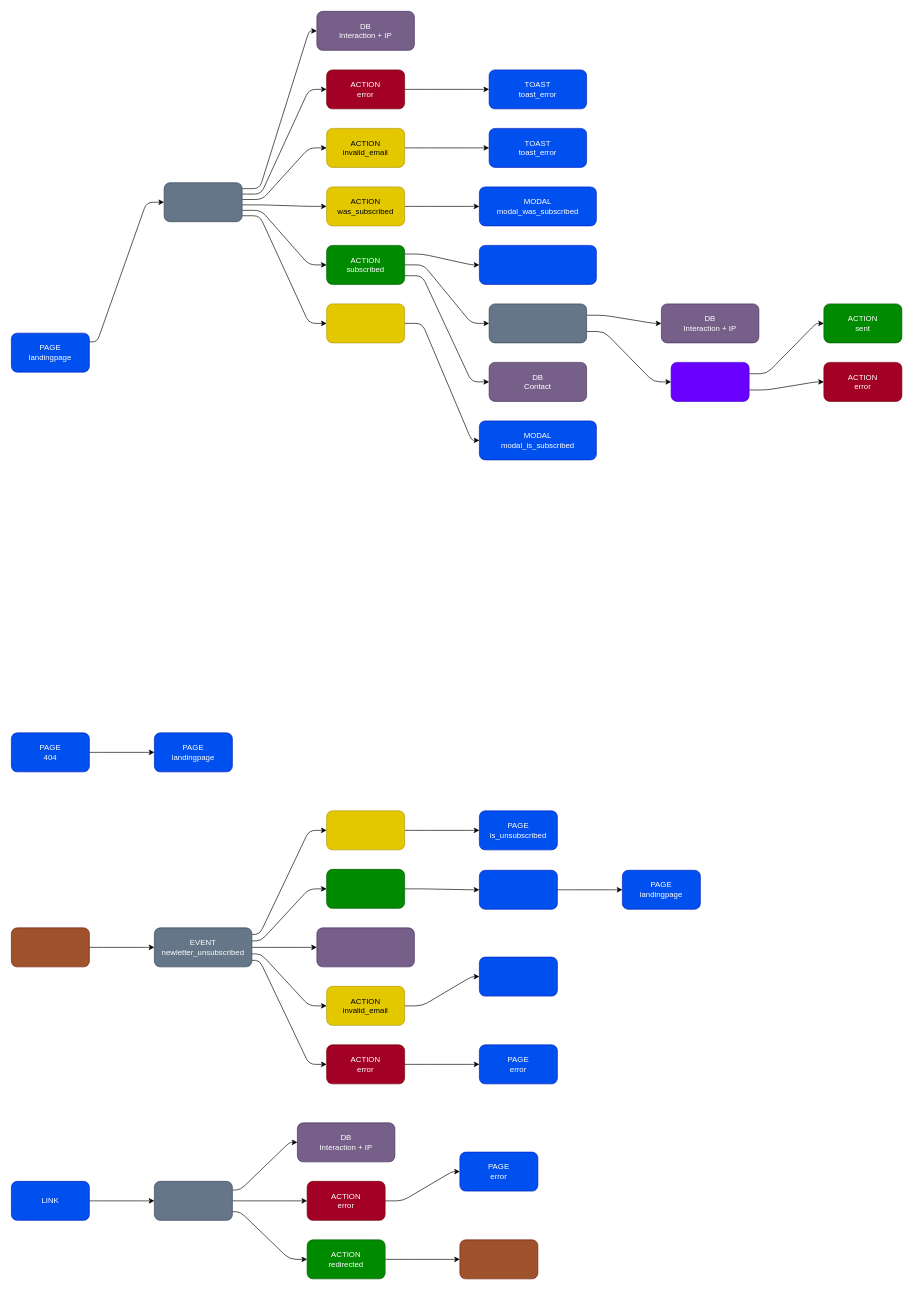
The diagram is 913 pixels wide and 1290 high, and some of its shapes have lost their labels. Here are the shapes that lost their labels. From the top down, the box of each, then its label:
(163, 182, 242, 222): EVENT newletter_subscribed
(479, 245, 596, 284): MODAL modal_subscribe
(326, 303, 405, 343): ACTION is_subscribed
(488, 303, 587, 343): EVENT - ASYNC email_sent
(670, 362, 749, 401): SEND EMAIL email_subscribe
(326, 810, 405, 850): ACTION is_unsubscribed
(326, 869, 405, 908): ACTION unsubscribe
(479, 870, 557, 909): PAGE unsubscribe
(11, 927, 89, 967): EMAIL
(316, 927, 414, 967): DB Interaction + IP + Contact
(479, 956, 557, 996): PAGE invalid_email
(154, 1181, 232, 1220): EVENT link_clicked
(459, 1239, 538, 1279): DESTINATION URL
